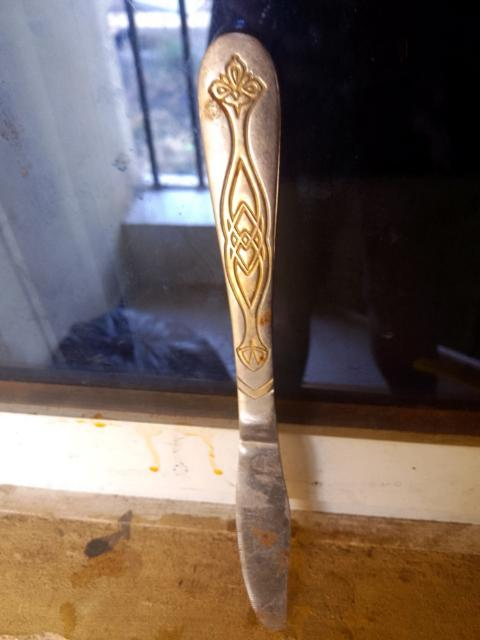Knife: (199, 34, 290, 629)
